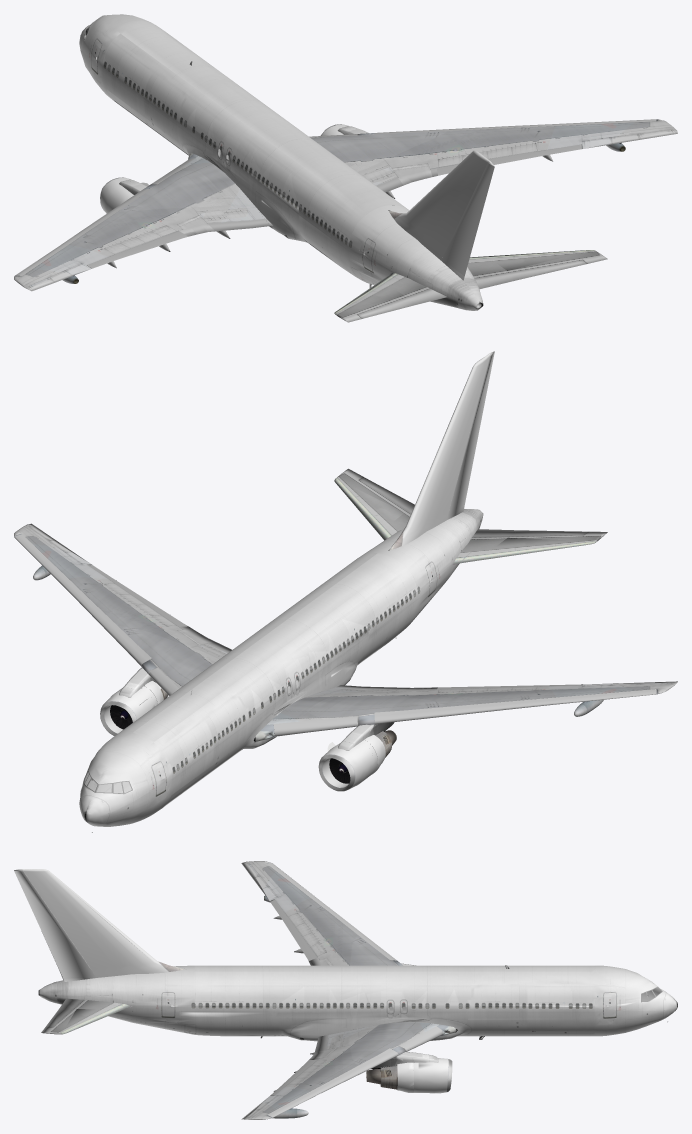
3 renders of one model, top to bottom at view 1: azimuth 30°, elevation 25°; view 2: azimuth 150°, elevation 25°; view 3: azimuth 270°, elevation 25°, orthographic. The views are drawn at different scales.
Visible parts, largest first — view 1: Fuselage, RWing_002, LWing_001, VStab_001, VRudder, RHStab, LHStab_001, RHelev, LHStab, flapl, LFflapwing2, RFflapwing2 (+6 smaller); view 2: Fuselage, RWing_002, LWing_001, VStab_001, LFflapwing2, LHStab_001, RHStab, RFflapwing2, VRudder, LCapaturbofan_004, LFflapwing1, RCapaturbofan_003 (+1 smaller); view 3: Fuselage, VStab_001, RWing_002, LWing_001, VRudder, RHStab, RFflapwing2, RCapaturbofan_003, LFflapwing2, RCapaturbofan_001, flap_ext_L, RSuportTurbofan (+3 smaller).
Part boxes in pixels (box(x1,y1,x2,y2)): Fuselage: box(79, 14, 483, 310); RWing_002: box(311, 119, 677, 178); LWing_001: box(14, 153, 272, 291); VStab_001: box(388, 150, 489, 280); VRudder: box(442, 163, 494, 276); RHStab: box(467, 250, 607, 276); LHStab_001: box(334, 273, 427, 322); RHelev: box(474, 259, 587, 288); LHStab: box(358, 287, 446, 318); flapl: box(195, 213, 269, 231); LFflapwing2: box(15, 188, 151, 275); RFflapwing2: box(374, 119, 656, 134); Fuselage: box(79, 509, 483, 826); RWing_002: box(14, 523, 223, 688); LWing_001: box(254, 681, 677, 741); VStab_001: box(388, 353, 490, 550); LFflapwing2: box(374, 689, 656, 724); LHStab_001: box(453, 531, 607, 564); RHStab: box(334, 468, 409, 540); RFflapwing2: box(14, 534, 151, 666); VRudder: box(447, 352, 494, 517); LCapaturbofan_004: box(318, 742, 374, 791); LFflapwing1: box(273, 716, 357, 736); RCapaturbofan_003: box(100, 688, 154, 735); Fuselage: box(38, 965, 677, 1041); VStab_001: box(22, 869, 185, 981); RWing_002: box(241, 1022, 457, 1119); LWing_001: box(241, 861, 402, 965); VRudder: box(14, 871, 95, 977); RHStab: box(41, 1000, 132, 1034); RFflapwing2: box(267, 1048, 398, 1117); RCapaturbofan_003: box(418, 1058, 452, 1093); LFflapwing2: box(267, 863, 396, 960); RCapaturbofan_001: box(397, 1062, 418, 1092); flap_ext_L: box(270, 900, 317, 960); RSuportTurbofan: box(373, 1051, 438, 1068).
Size of what is drawn, in the model's own units: 46.31 by 50.37 by 15.01.
